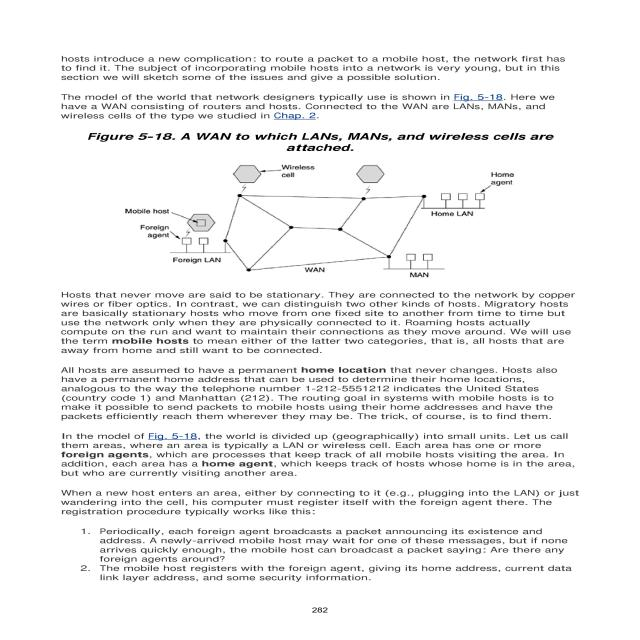diagram: (70, 121, 563, 290)
